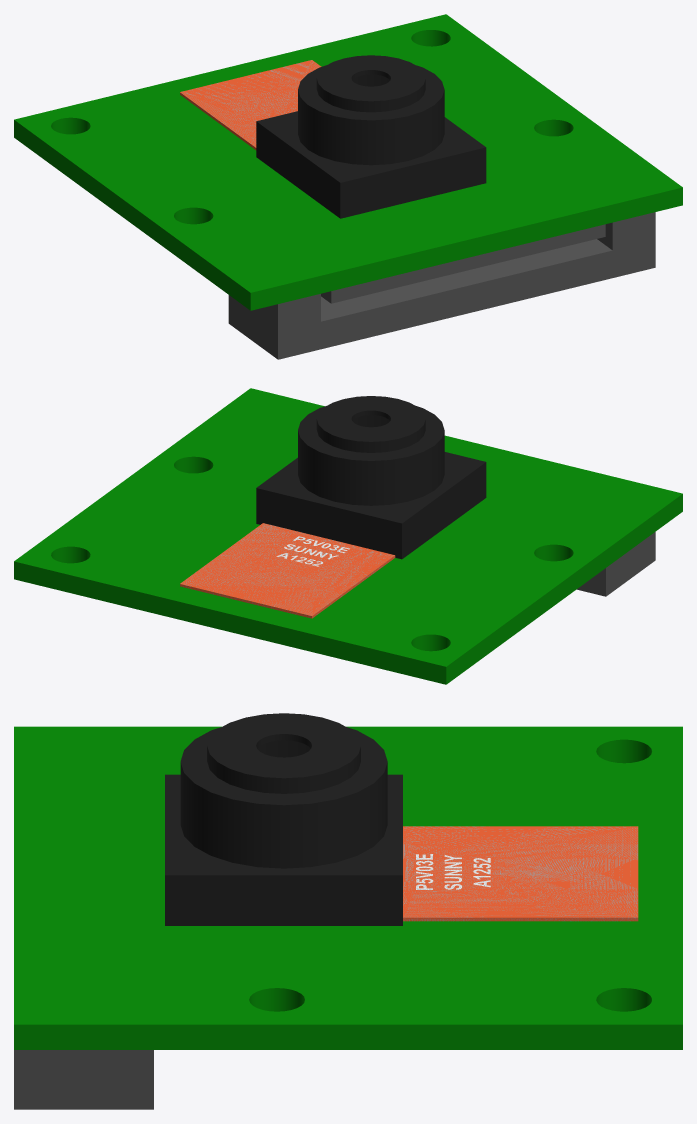
The model's file is RPIcam.dae.
3 renders of one model, top to bottom at view 1: azimuth 30°, elevation 25°; view 2: azimuth 150°, elevation 25°; view 3: azimuth 270°, elevation 25°, orthographic. The views are drawn at different scales.
Parts seen in each view (by area): view 1: SketchUp (×5), Spy_Camera_for_Raspberry_Pi_1 (×4), Component_3; view 2: SketchUp (×5), Spy_Camera_for_Raspberry_Pi_1 (×4), Component_3; view 3: SketchUp (×4), Spy_Camera_for_Raspberry_Pi_1 (×4), Component_3.
Part boxes in pixels (x1,y1,x2,y2): SketchUp (×5): [14, 14, 682, 310]; Spy_Camera_for_Raspberry_Pi_1 (×4): [180, 55, 486, 218]; Component_3: [228, 212, 655, 359]; SketchUp (×5): [14, 388, 682, 684]; Spy_Camera_for_Raspberry_Pi_1 (×4): [180, 396, 486, 618]; Component_3: [577, 532, 655, 596]; SketchUp (×4): [14, 726, 682, 1049]; Spy_Camera_for_Raspberry_Pi_1 (×4): [165, 713, 638, 925]; Component_3: [14, 1050, 153, 1109].
Size of the model in its own units: 0.9921 by 0.9409 by 0.363.
